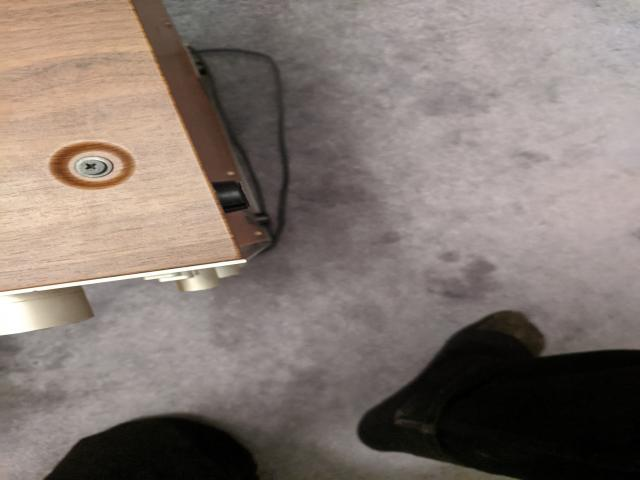CRS: (74, 158, 106, 174)
